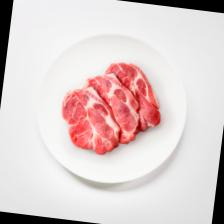meat: (76, 68, 144, 146), (56, 83, 126, 157), (99, 60, 166, 132)
